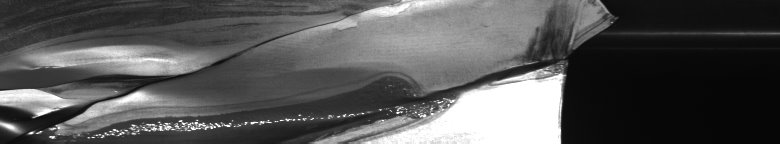ke: (4, 4, 548, 136)
